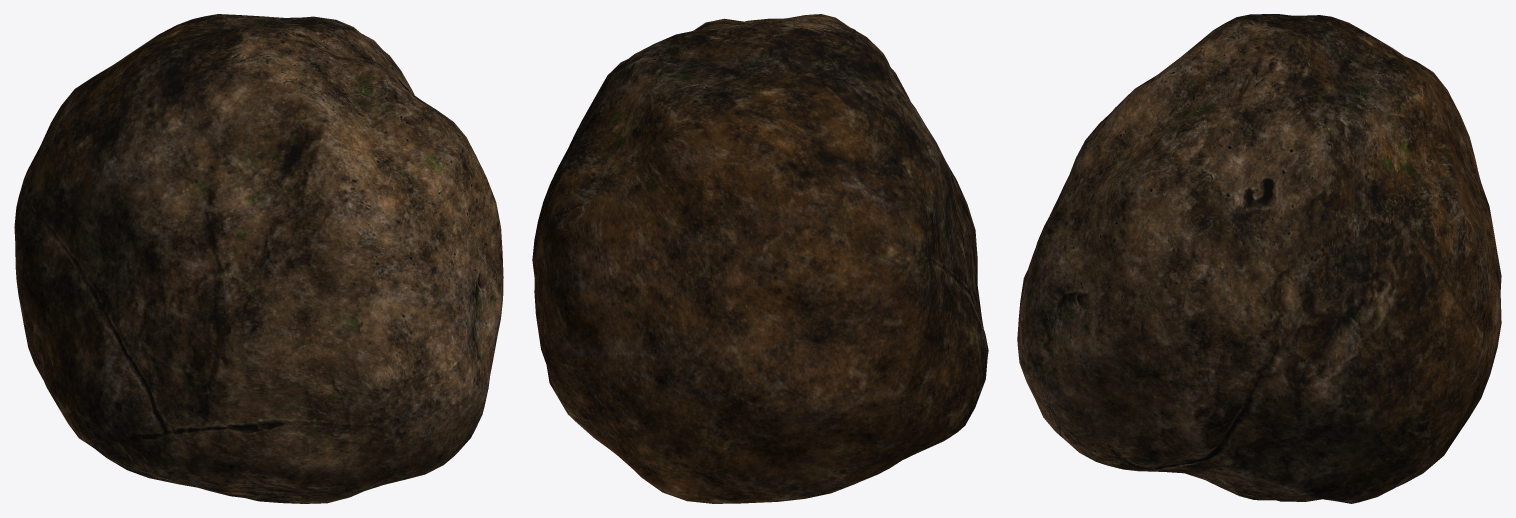
Rendered from SM_TI_Rock_6.fbx.
3 renders of one model, left to right at view 1: azimuth 30°, elevation 25°; view 2: azimuth 150°, elevation 25°; view 3: azimuth 270°, elevation 25°, orthographic.
Parts seen in each view (by area): view 1: SM_TI_Rock_6; view 2: SM_TI_Rock_6; view 3: SM_TI_Rock_6.
Boxes of the visible parts, left/top/right/bottom form: SM_TI_Rock_6: left=14, top=14, right=503, bottom=503; SM_TI_Rock_6: left=532, top=14, right=988, bottom=503; SM_TI_Rock_6: left=1017, top=14, right=1501, bottom=503.
Size of the model in its own units: 31.18 by 33.23 by 33.53.
